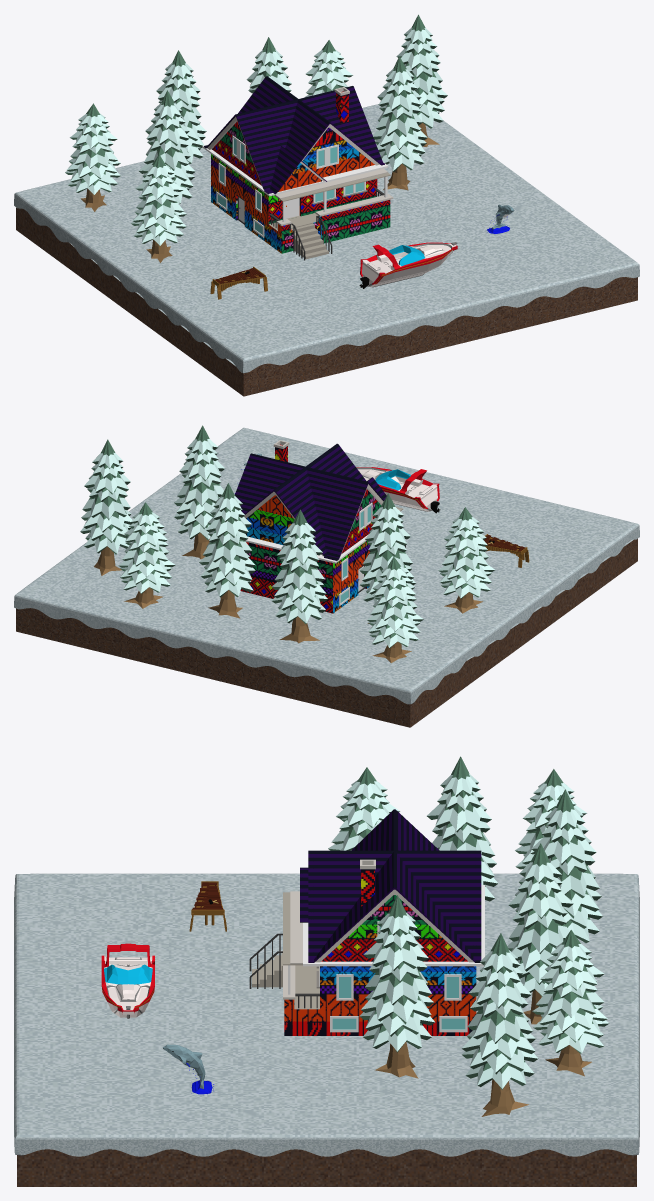
3 views of the same model, one above another, from view 1: azimuth 30°, elevation 25°; view 2: azimuth 150°, elevation 25°; view 3: azimuth 270°, elevation 25° (orthographic). The views are drawn at different scales.
Visible parts, largest first — view 1: Cube.003, Cube.966, VEHICLES_BOAT, OBJRANDOM_MARIMBA; view 2: Cube.003, Cube.966, VEHICLES_BOAT, OBJRANDOM_MARIMBA; view 3: Cube.003, Cube.966, VEHICLES_BOAT, OBJRANDOM_MARIMBA, ANIMAL_DELFIN.
Boxes of the visible parts, x1=… form: Cube.003: x1=14, y1=14, x2=639, y2=396; Cube.966: x1=202, y1=76, x2=393, y2=260; VEHICLES_BOAT: x1=359, y1=242, x2=457, y2=288; OBJRANDOM_MARIMBA: x1=210, y1=266, x2=267, y2=299; Cube.003: x1=14, y1=425, x2=639, y2=727; Cube.966: x1=235, y1=440, x2=405, y2=613; VEHICLES_BOAT: x1=356, y1=467, x2=440, y2=513; OBJRANDOM_MARIMBA: x1=484, y1=534, x2=529, y2=567; Cube.003: x1=14, y1=756, x2=639, y2=1186; Cube.966: x1=249, y1=809, x2=484, y2=1035; VEHICLES_BOAT: x1=101, y1=943, x2=154, y2=1018; OBJRANDOM_MARIMBA: x1=189, y1=881, x2=226, y2=931; ANIMAL_DELFIN: x1=163, y1=1044, x2=214, y2=1094.
Size of the model in its own units: 4040 by 1700 by 4040.
Materials: 34 (7 with a texture image).
